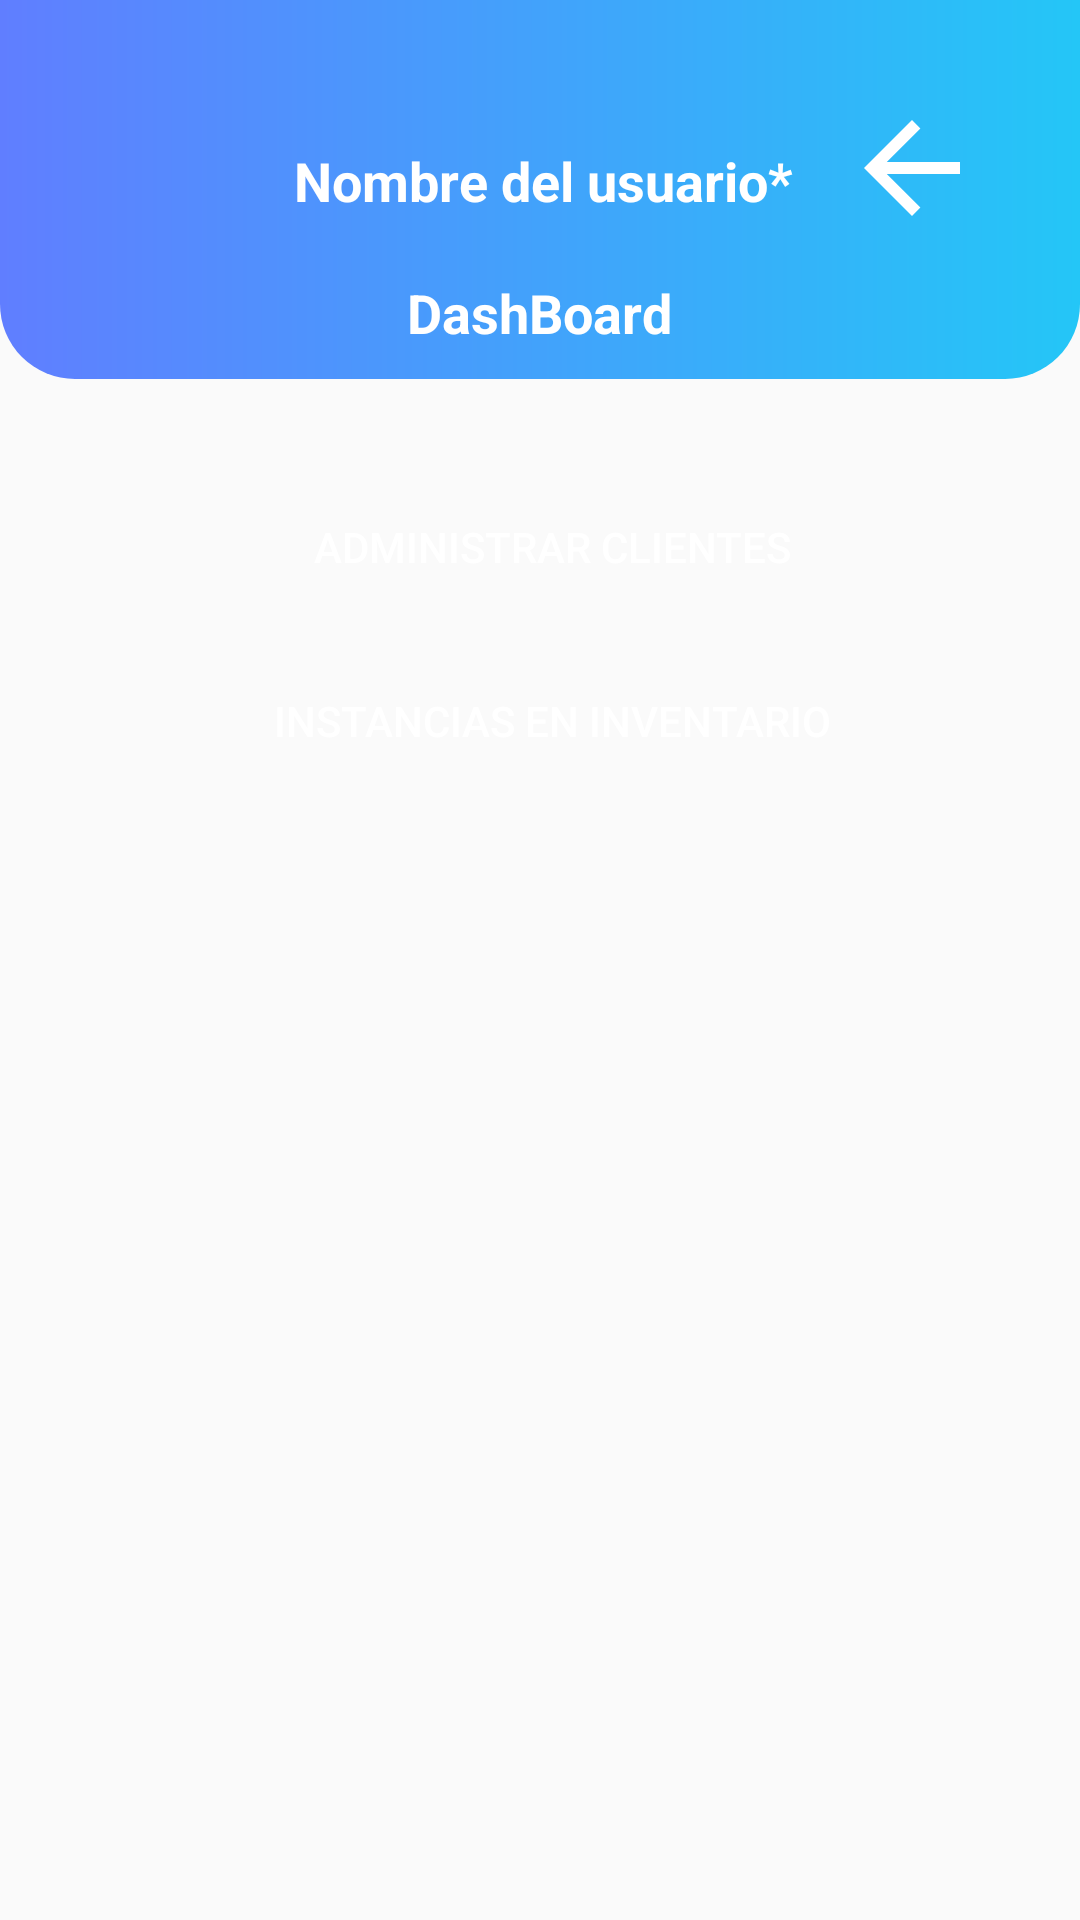

Named icons in this screenshot (1080*1920) and their centers, (x,y):
Boton que al presionar cuelve a la pantalla anterior: (912,168)
